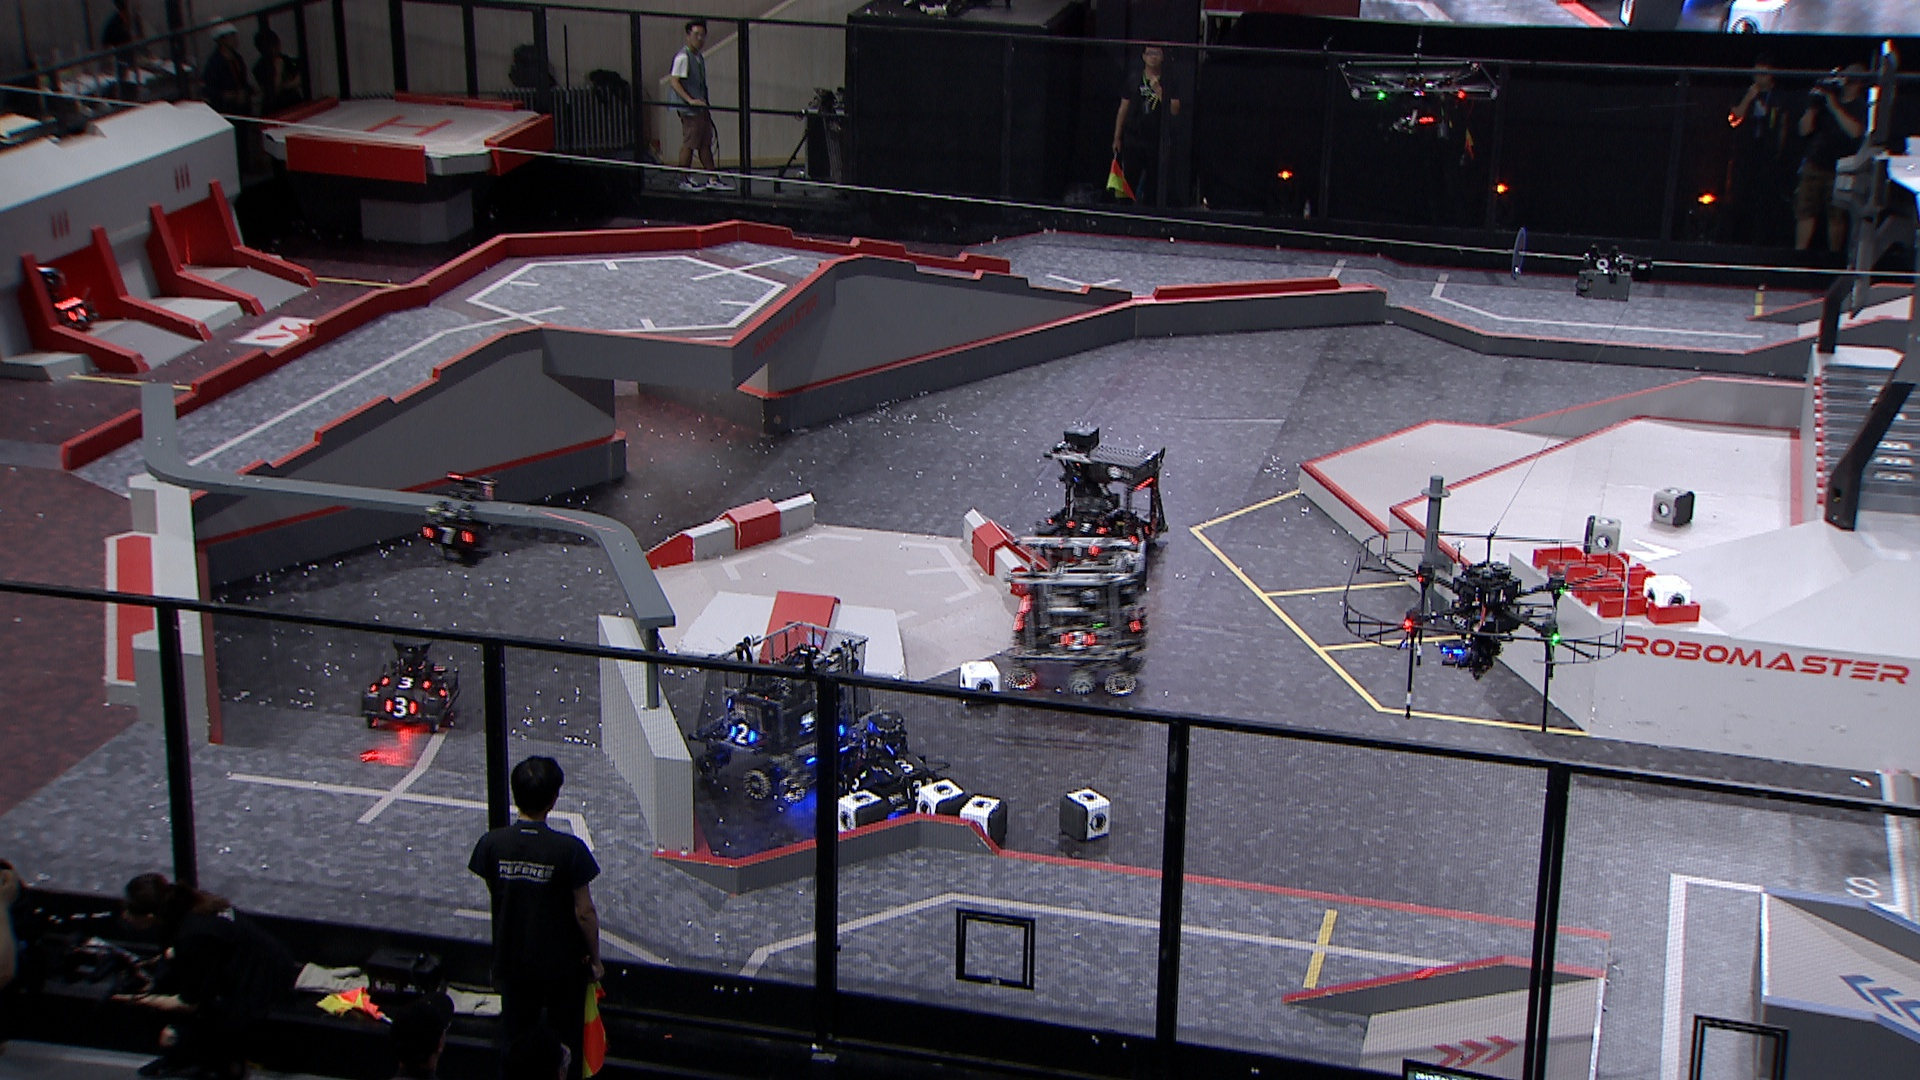armor: (422, 524, 469, 550), (381, 694, 417, 719), (885, 754, 924, 777), (1058, 537, 1096, 556), (1060, 632, 1095, 651), (385, 674, 430, 688), (902, 779, 932, 799), (731, 723, 756, 746), (1065, 517, 1105, 531), (433, 679, 454, 703), (845, 774, 866, 798), (69, 305, 87, 323), (1131, 524, 1149, 542)
car: (690, 622, 874, 807), (1002, 527, 1145, 704), (1034, 425, 1172, 570), (822, 705, 942, 820), (359, 628, 465, 731), (12, 261, 107, 349)
watcher: (417, 467, 508, 574)
